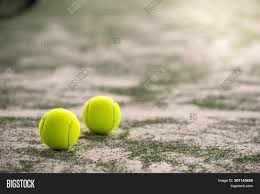tennis_ball: (38, 107, 82, 152), (81, 95, 121, 137)
